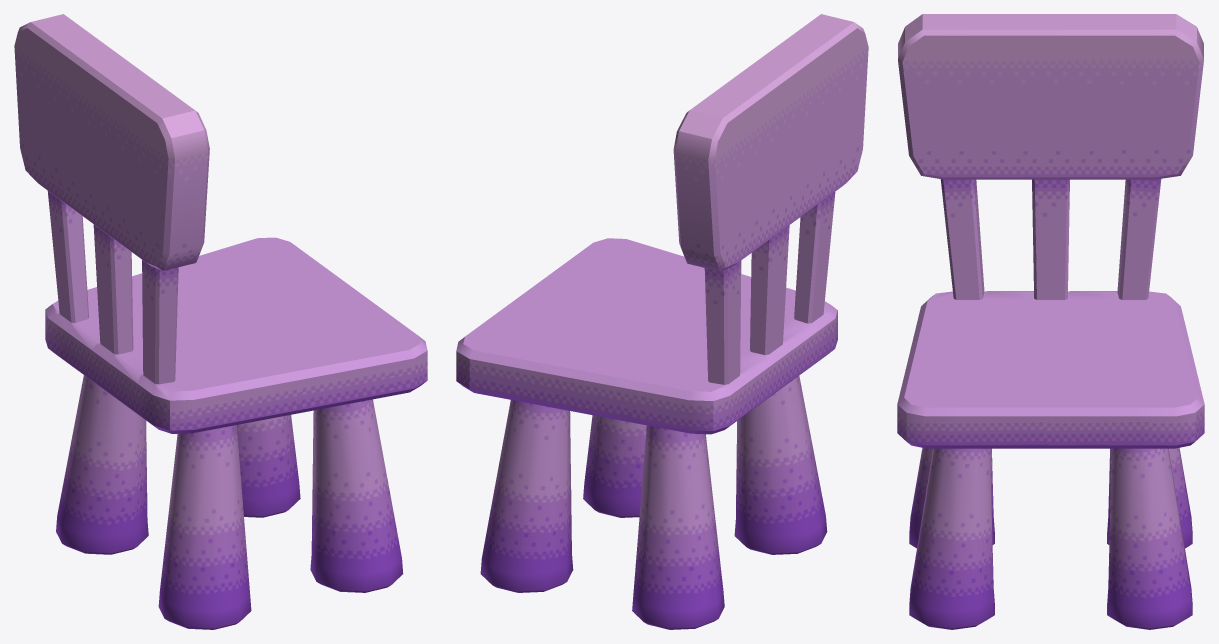
The model's file is Silla.fbx.
3 renders of one model, left to right at view 1: azimuth 30°, elevation 25°; view 2: azimuth 150°, elevation 25°; view 3: azimuth 270°, elevation 25°, orthographic. The views are drawn at different scales.
Visible parts, largest first — view 1: SILLA; view 2: SILLA; view 3: SILLA.
Boxes of the visible parts, box(x1,y1,x2,y2) form: SILLA: box(14, 14, 427, 629); SILLA: box(456, 14, 868, 629); SILLA: box(897, 14, 1204, 629).
Bounding box in the file's own units: 36.28 × 67 × 37.28.
